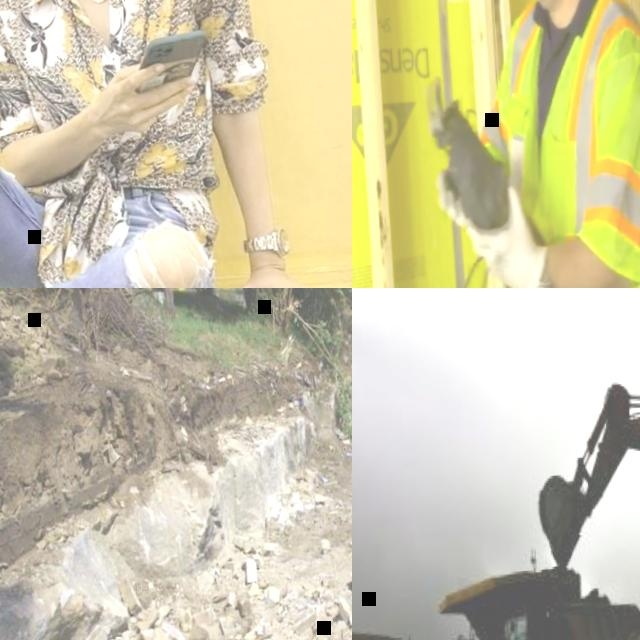NO-Safety Vest: (2, 0, 226, 202)
Person: (0, 0, 325, 288), (407, 0, 640, 288)
Safety Vest: (466, 0, 640, 288)
machinery: (524, 363, 640, 633), (431, 552, 640, 640)
